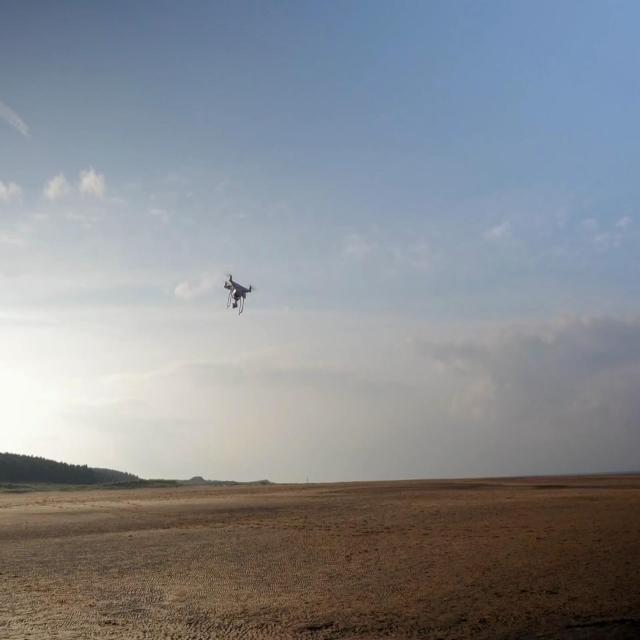drone: (222, 270, 256, 314)
